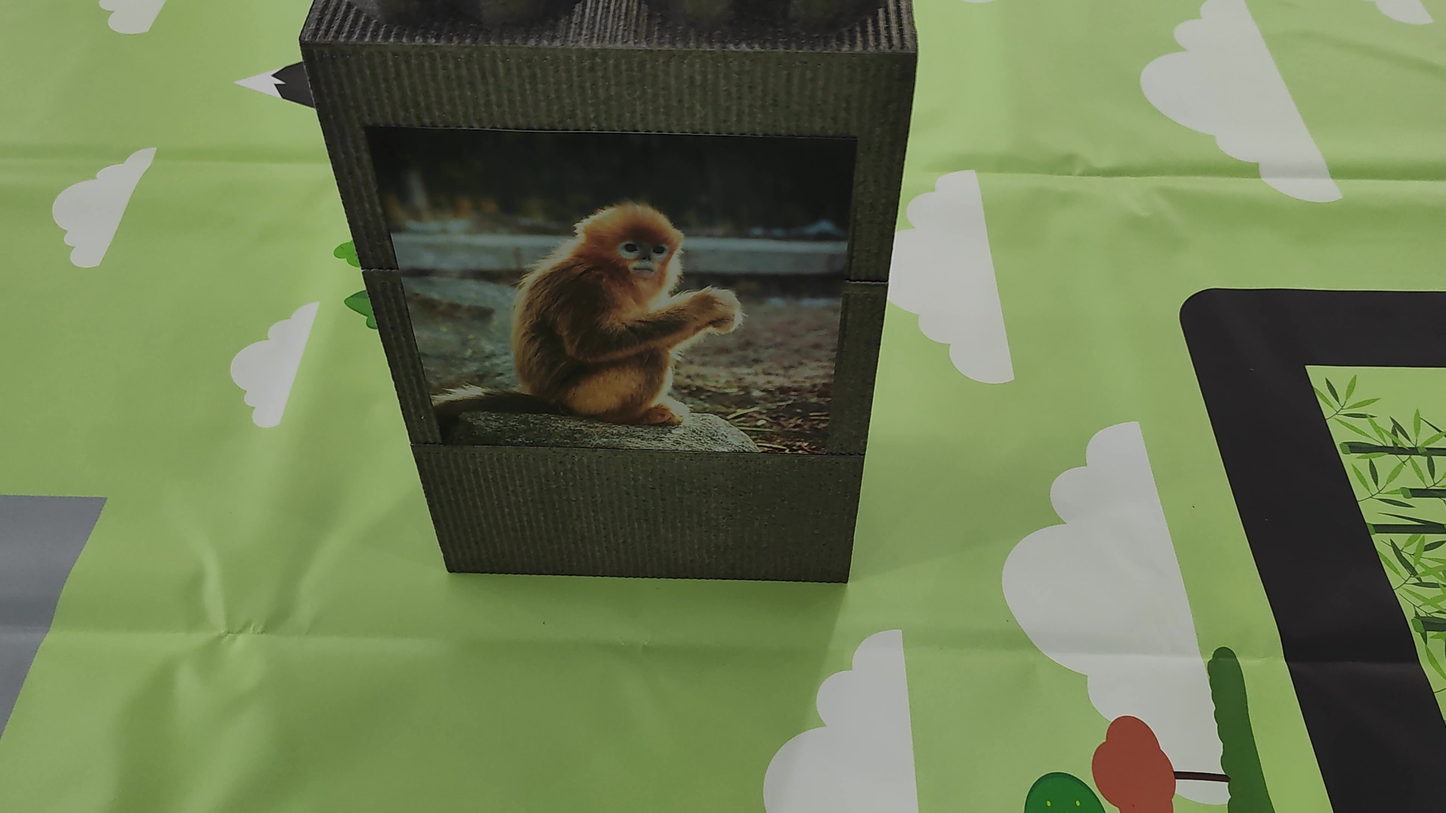monkey: (477, 183, 754, 440)
